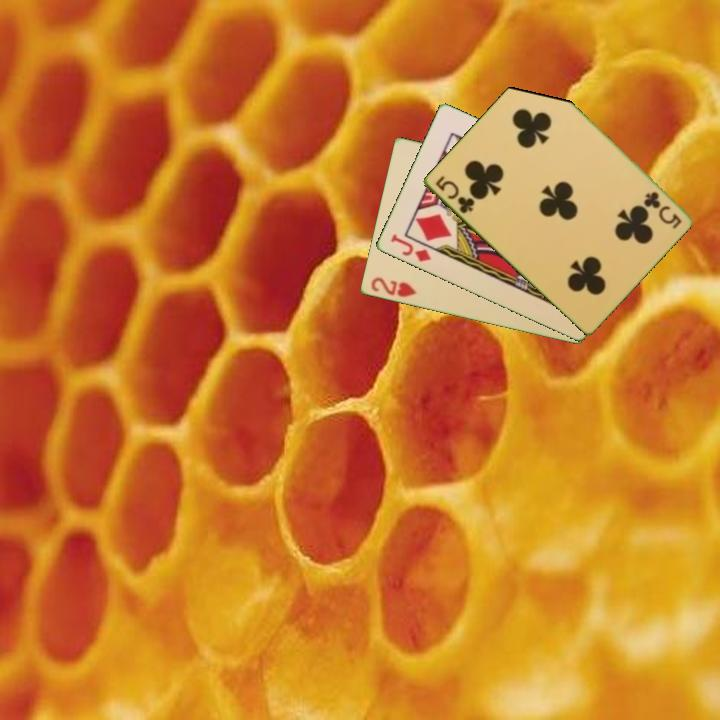2h: (367, 274, 419, 300)
5c: (431, 172, 477, 216), (640, 188, 684, 232)
Jd: (387, 230, 434, 265)
